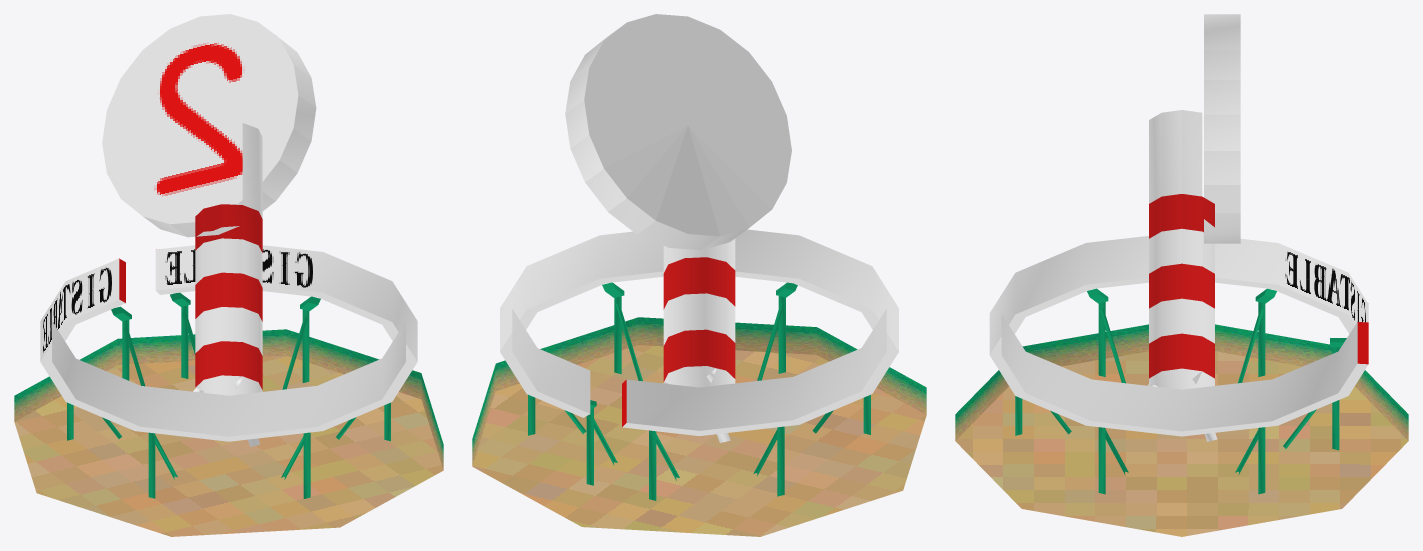
The model's file is ps2_save-icons_jikkyougistable2.glb.
3 views of the same model, side by side, from view 1: azimuth 30°, elevation 25°; view 2: azimuth 150°, elevation 25°; view 3: azimuth 270°, elevation 25° (orthographic). The views are drawn at different scales.
Parts seen in each view (by area): view 1: furlong.ico; view 2: furlong.ico; view 3: furlong.ico.
Part boxes in pixels (x1=…): furlong.ico: x1=14, y1=14, x2=443, y2=536; furlong.ico: x1=472, y1=14, x2=926, y2=536; furlong.ico: x1=955, y1=14, x2=1408, y2=536.
Size of the model in its own units: 4.71 by 4.78 by 4.71.
Materials: 1 (1 with a texture image).
